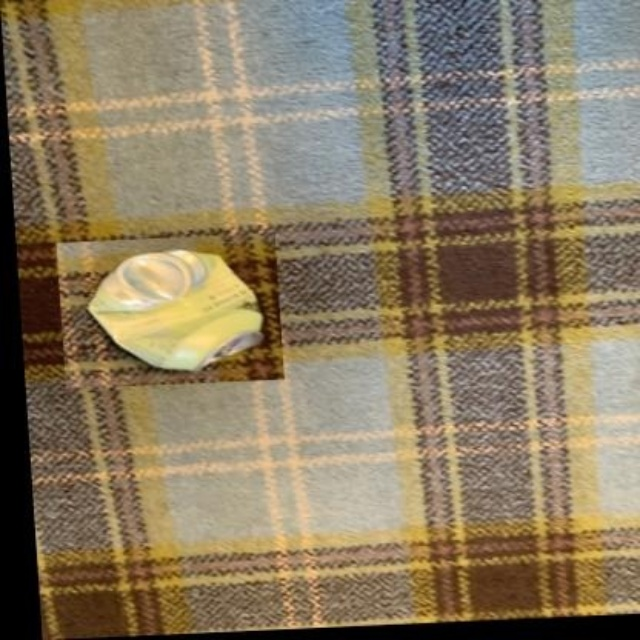trash: (2, 0, 638, 638), (86, 248, 265, 372), (88, 249, 262, 369)
